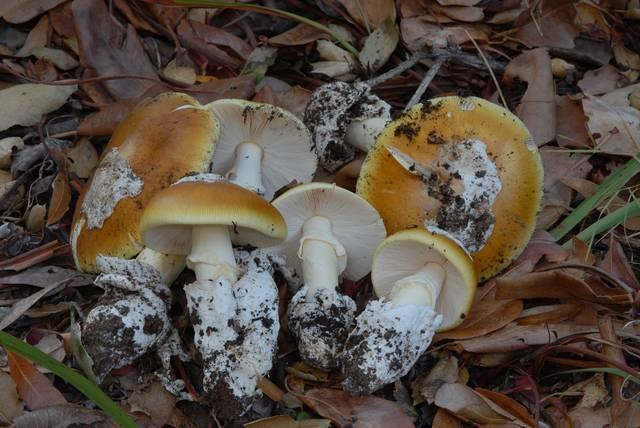edible_mushroom: (69, 84, 544, 411), (354, 94, 544, 283), (138, 173, 288, 411), (69, 90, 220, 281), (260, 180, 387, 371), (138, 172, 288, 284), (203, 97, 319, 201)
